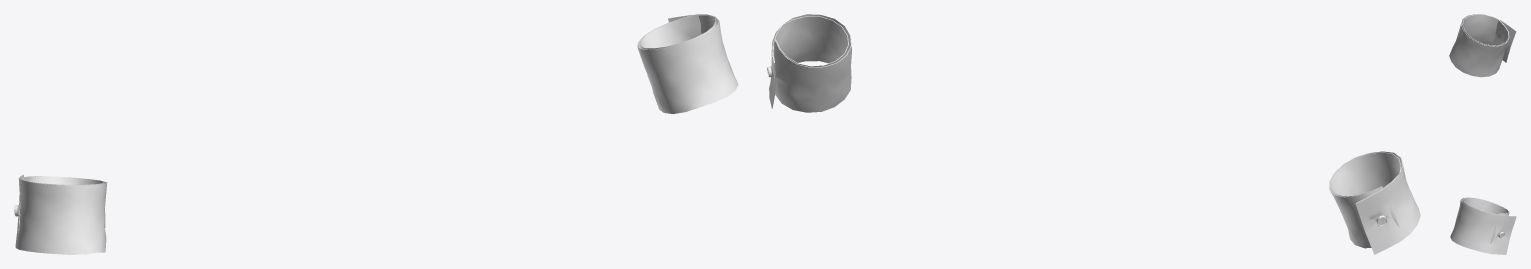
The model's file is cuff-1-draco.glb.
The picture shows the model from 3 angles, left to right: view 1: azimuth 30°, elevation 25°; view 2: azimuth 150°, elevation 25°; view 3: azimuth 270°, elevation 25°; orthographic projection. The views are drawn at different scales.
Parts seen in each view (by area): view 1: Cuffs_1_Node, Cuffs_Node, Cuffs_6_Node, Cuffs_4_Node; view 2: Cuffs_1_Node, Cuffs_Node, Cuffs_6_Node, Cuffs_4_Node; view 3: Cuffs_Node, Cuffs_1_Node, Cuffs_4_Node, Cuffs_6_Node.
Part boxes in pixels (x1,y1,x2,y2): Cuffs_1_Node: (15, 175, 107, 254); Cuffs_Node: (637, 14, 738, 113); Cuffs_6_Node: (639, 14, 735, 113); Cuffs_4_Node: (15, 174, 104, 254); Cuffs_1_Node: (1329, 151, 1420, 254); Cuffs_Node: (769, 14, 851, 112); Cuffs_6_Node: (772, 16, 848, 108); Cuffs_4_Node: (1330, 152, 1410, 254); Cuffs_Node: (1450, 197, 1516, 254); Cuffs_1_Node: (1449, 14, 1515, 77); Cuffs_4_Node: (1462, 14, 1516, 62); Cuffs_6_Node: (1453, 198, 1513, 254).
Size of the model in its own units: 0.7035 by 0.0821 by 0.0991.
Materials: 2 (2 with a texture image).
